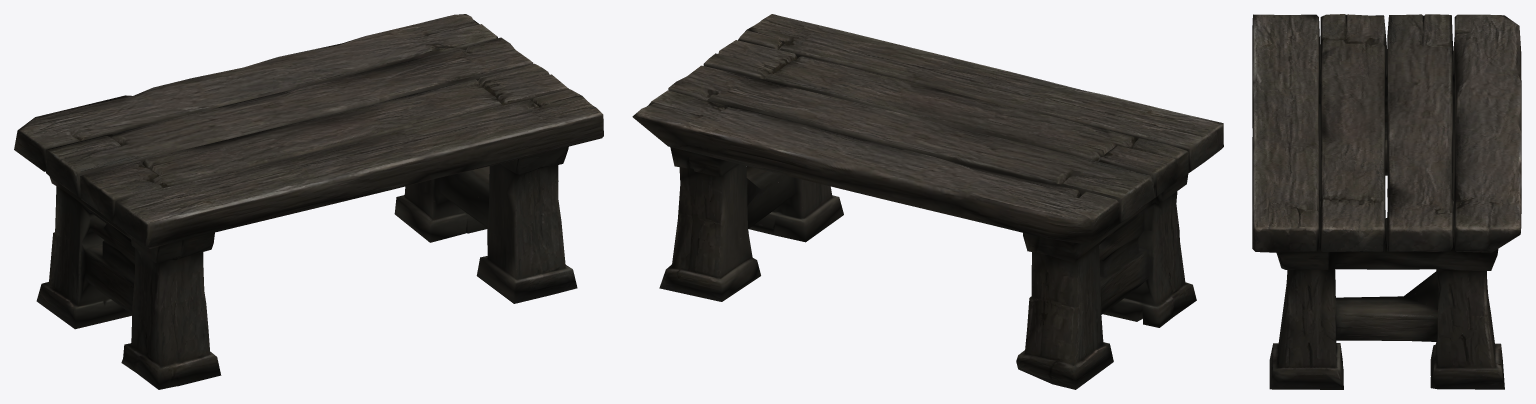
Rendered from bench_plank_low.glb.
3 renders of one model, left to right at view 1: azimuth 30°, elevation 25°; view 2: azimuth 150°, elevation 25°; view 3: azimuth 270°, elevation 25°, orthographic. The views are drawn at different scales.
Parts seen in each view (by area): view 1: tripo_node_e7524d36-2cdb-4371-9338-af1f9b13e16b; view 2: tripo_node_e7524d36-2cdb-4371-9338-af1f9b13e16b; view 3: tripo_node_e7524d36-2cdb-4371-9338-af1f9b13e16b.
Part boxes in pixels (left/top/right/bottom): tripo_node_e7524d36-2cdb-4371-9338-af1f9b13e16b: left=14, top=14, right=603, bottom=389; tripo_node_e7524d36-2cdb-4371-9338-af1f9b13e16b: left=632, top=14, right=1223, bottom=389; tripo_node_e7524d36-2cdb-4371-9338-af1f9b13e16b: left=1252, top=14, right=1521, bottom=389.
Size of the model in its own units: 1 by 0.3717 by 0.5299.
1 material, 1 textured.
